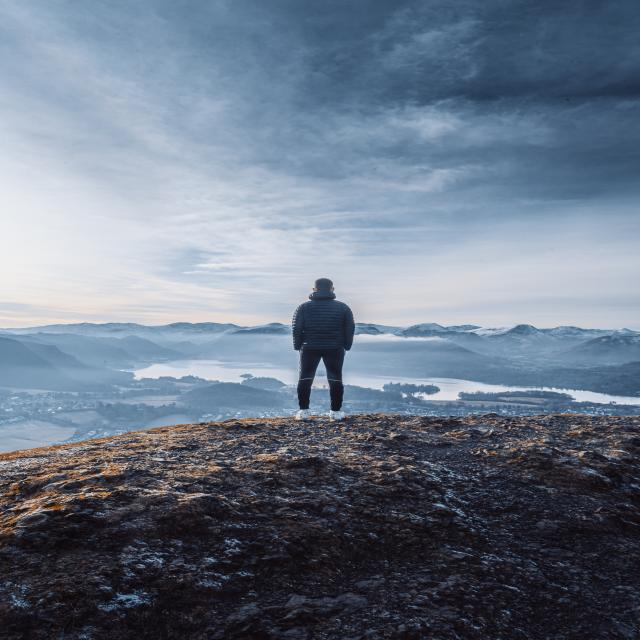standing: (285, 275, 362, 425)
